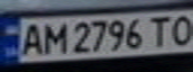2: (69, 18, 93, 54)
6: (124, 15, 151, 51)
7: (87, 17, 109, 53)
9: (106, 17, 130, 52)
A: (15, 20, 45, 56)
M: (39, 20, 69, 55)
O: (166, 11, 193, 46)
T: (145, 12, 175, 47)
